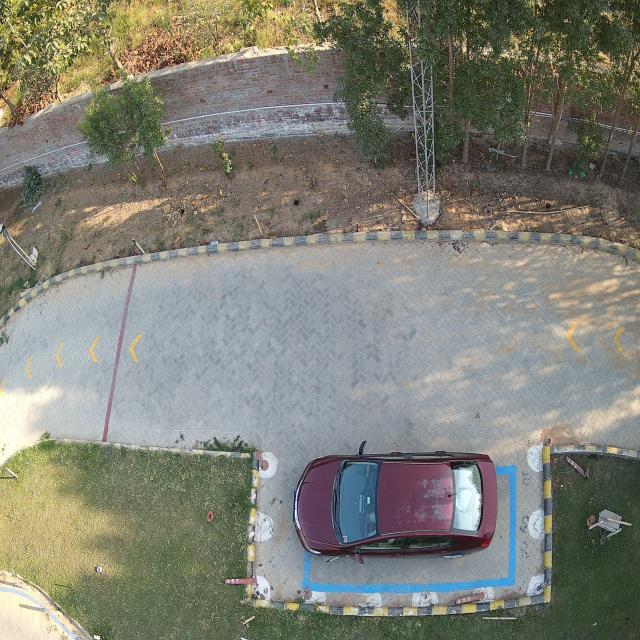car: (292, 452, 505, 561)
